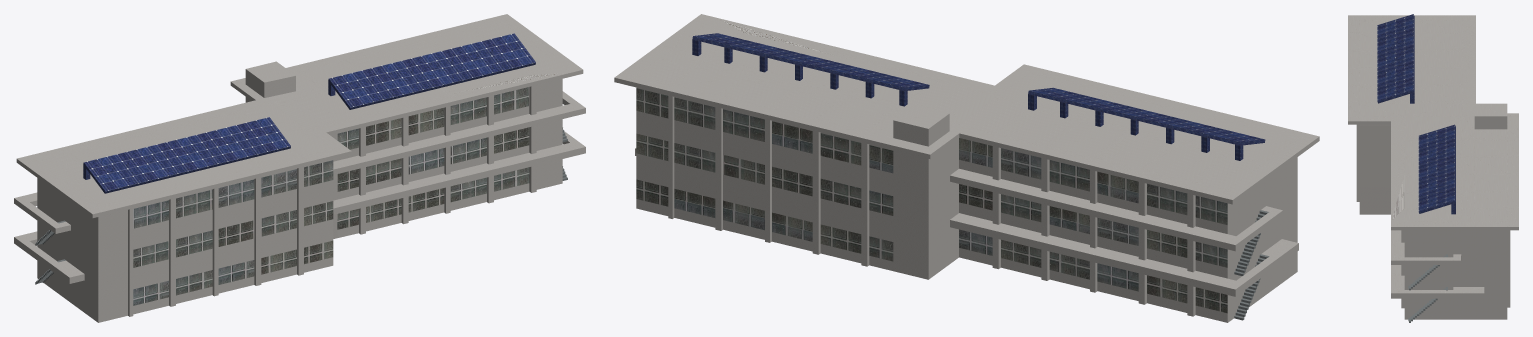
The model's file is 3gokan 1.fbx.
3 views of the same model, side by side, from view 1: azimuth 30°, elevation 25°; view 2: azimuth 150°, elevation 25°; view 3: azimuth 270°, elevation 25° (orthographic). The views are drawn at different scales.
Parts seen in each view (by area): view 1: Cube, Cube.002, Cube.001; view 2: Cube, Cube.002, Cube.001, Stairs.003; view 3: Cube, Cube.002, Cube.001, Stairs, Stairs.001.
Part boxes in pixels (x1=…): Cube: x1=14, y1=14, x2=585, y2=322; Cube.002: x1=328, y1=33, x2=535, y2=109; Cube.001: x1=83, y1=117, x2=290, y2=193; Cube: x1=614, y1=14, x2=1319, y2=322; Cube.002: x1=692, y1=33, x2=929, y2=106; Cube.001: x1=1028, y1=87, x2=1265, y2=160; Stairs.003: x1=1234, y1=210, x2=1268, y2=275; Cube: x1=1348, y1=15, x2=1518, y2=319; Cube.002: x1=1418, y1=124, x2=1455, y2=214; Cube.001: x1=1377, y1=14, x2=1414, y2=103; Stairs: x1=1408, y1=254, x2=1447, y2=290; Stairs.001: x1=1408, y1=287, x2=1447, y2=322.
Bounding box in the file's own units: 3674 × 895 × 1242.
